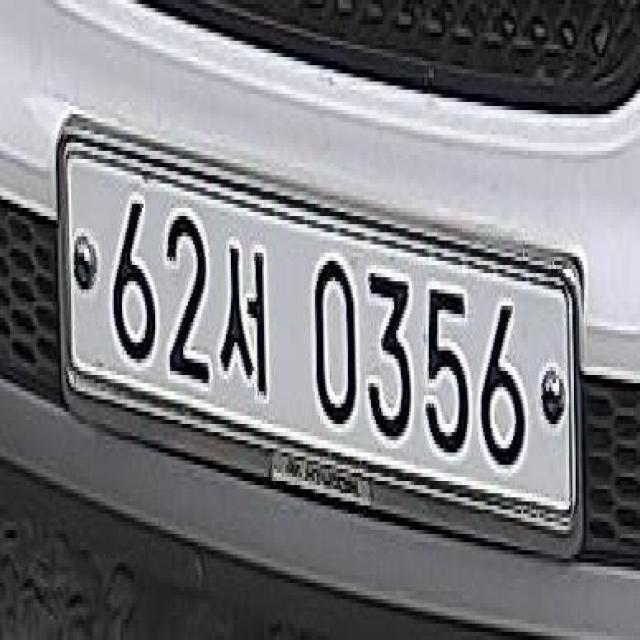0: (309, 246, 362, 437)
2: (163, 200, 214, 394)
3: (365, 254, 418, 448)
5: (424, 272, 472, 460)
6: (476, 290, 532, 480), (106, 184, 159, 368)
license_plate: (48, 90, 598, 584)
seo: (220, 226, 270, 402)
